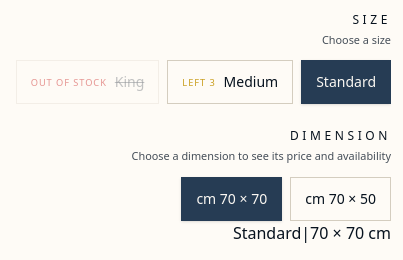
Test: variant picker independence › keeps the chosen dimension when a size is clicked
# Medium is the size that still has stock, so it is the one that can be picked.
Click the button "Medium 3 left".
click(230, 82)  # box [167,60,293,104]
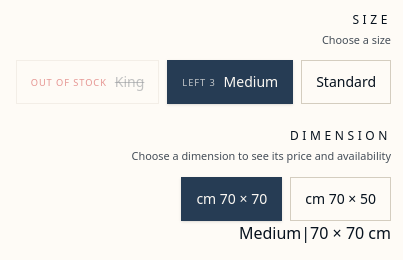
Check: the text with test id "picked" reads "Medium|70 × 70 cm", box [239,222,391,244]
